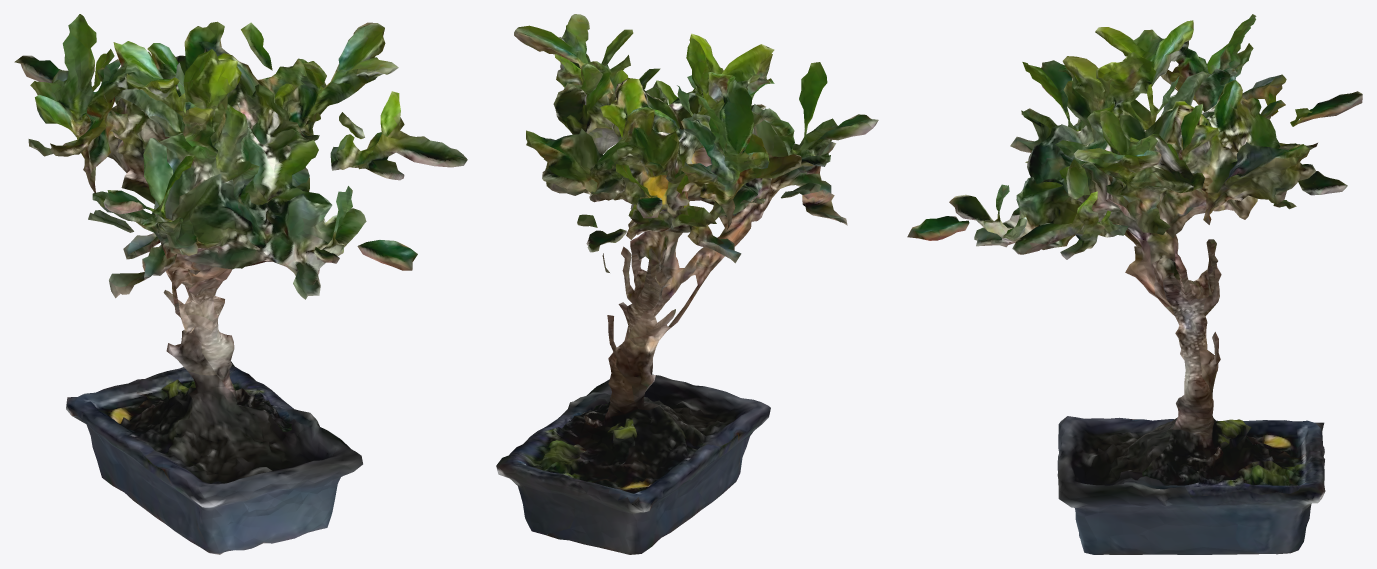
The model's file is sf-bonsai.glb.
3 renders of one model, left to right at view 1: azimuth 30°, elevation 25°; view 2: azimuth 150°, elevation 25°; view 3: azimuth 270°, elevation 25°, orthographic. The views are drawn at different scales.
Parts seen in each view (by area): view 1: Object_4; view 2: Object_4; view 3: Object_4.
Boxes of the visible parts, x1,y1,x2,y2 form: Object_4: (14,14,467,554); Object_4: (496,14,878,554); Object_4: (907,14,1362,554).
Size of the model in its own units: 0.2251 by 0.3 by 0.2663.
1 material, 1 textured.
